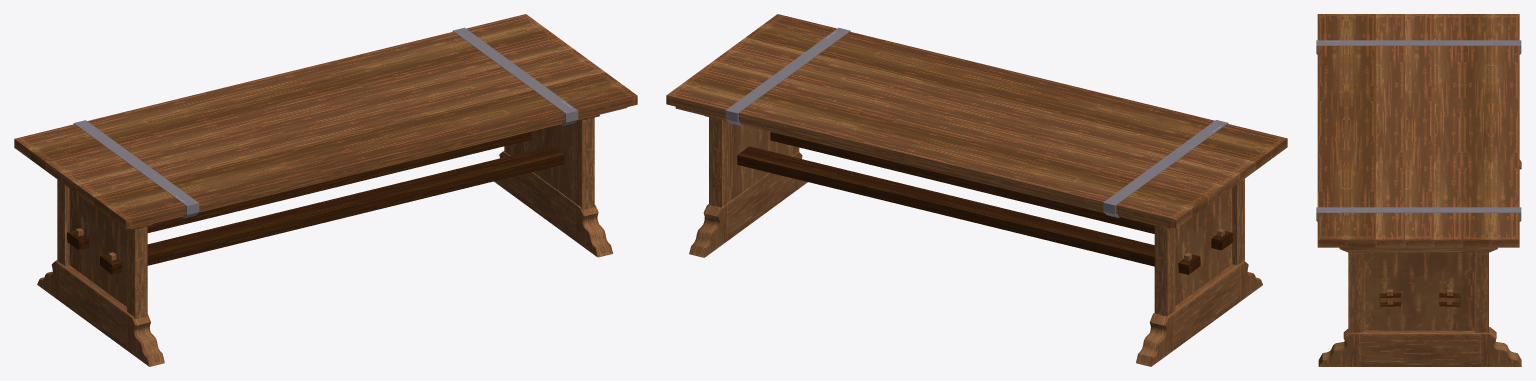
The model's file is table.glb.
The picture shows the model from 3 angles, left to right: view 1: azimuth 30°, elevation 25°; view 2: azimuth 150°, elevation 25°; view 3: azimuth 270°, elevation 25°; orthographic projection. The views are drawn at different scales.
Visible parts, largest first — view 1: Table_Large; view 2: Table_Large; view 3: Table_Large.
Part boxes in pixels (left/top/right/bottom): Table_Large: left=14, top=14, right=637, bottom=366; Table_Large: left=666, top=14, right=1287, bottom=366; Table_Large: left=1316, top=14, right=1521, bottom=366.
Size of the model in its own units: 2.85 by 0.8134 by 1.1.
Materials: 2 (2 with a texture image).
